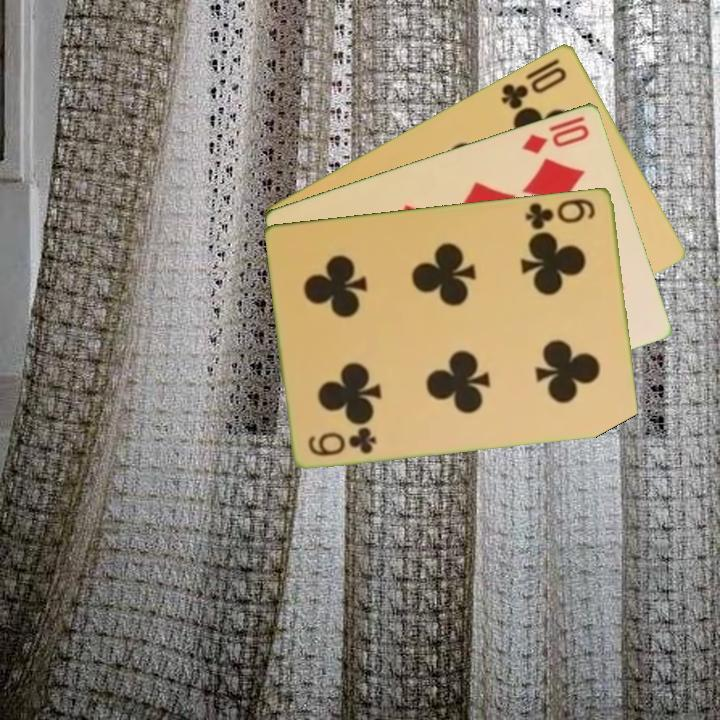10c: (497, 62, 570, 112)
10d: (518, 120, 593, 156)
6c: (522, 194, 599, 232), (304, 424, 380, 458)
